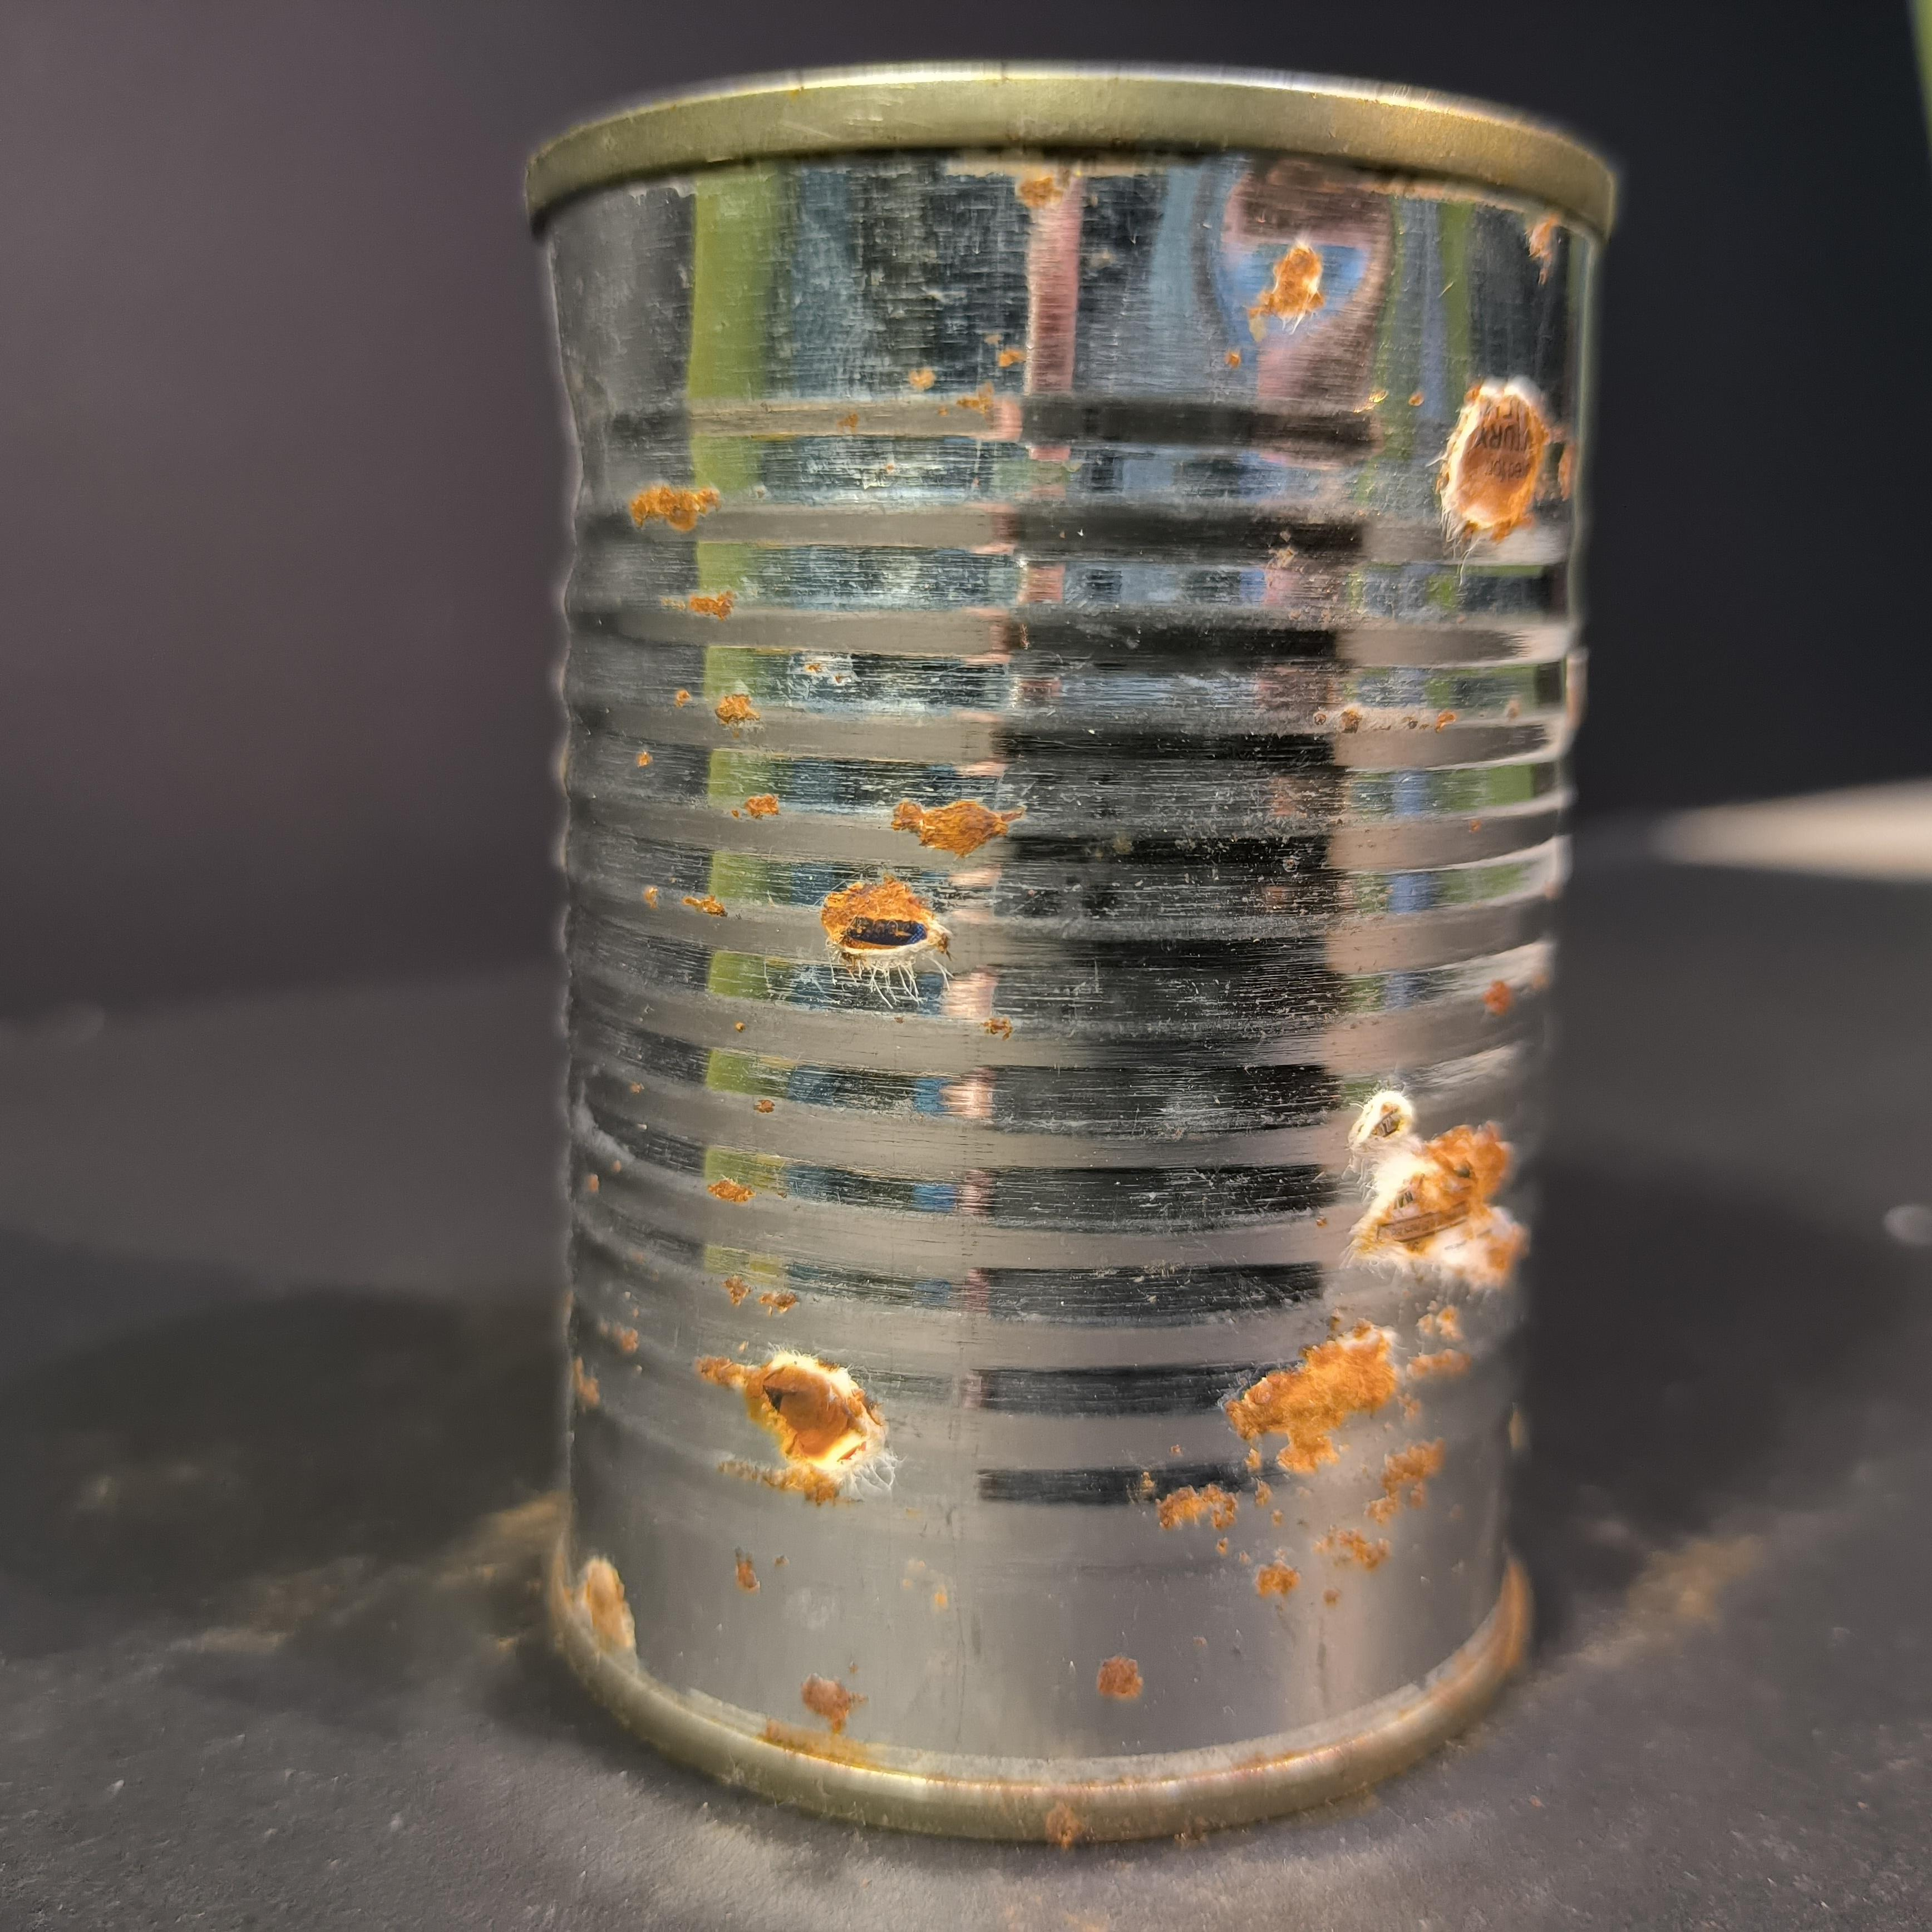Rusted: (481, 39, 1651, 1856)
